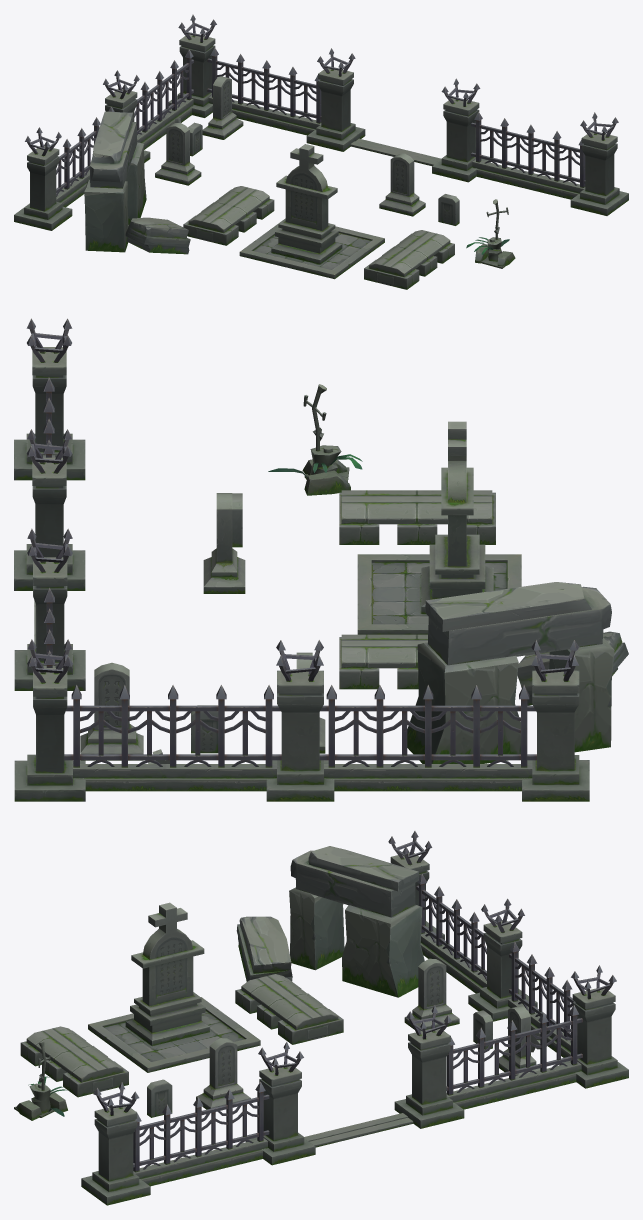
File: scene_lawennushandao_building05.FBX
3 renders of one model, top to bottom at view 1: azimuth 30°, elevation 25°; view 2: azimuth 150°, elevation 25°; view 3: azimuth 270°, elevation 25°, orthographic. The views are drawn at different scales.
Visible parts, largest first — view 1: scene_lawennushandao_building05; view 2: scene_lawennushandao_building05; view 3: scene_lawennushandao_building05.
Boxes of the visible parts, x1,y1,x2,y2 form: scene_lawennushandao_building05: (14,14,628,289); scene_lawennushandao_building05: (14,318,628,801); scene_lawennushandao_building05: (14,831,628,1205).
Size of the model in its own units: 1457 by 322 by 1349.
